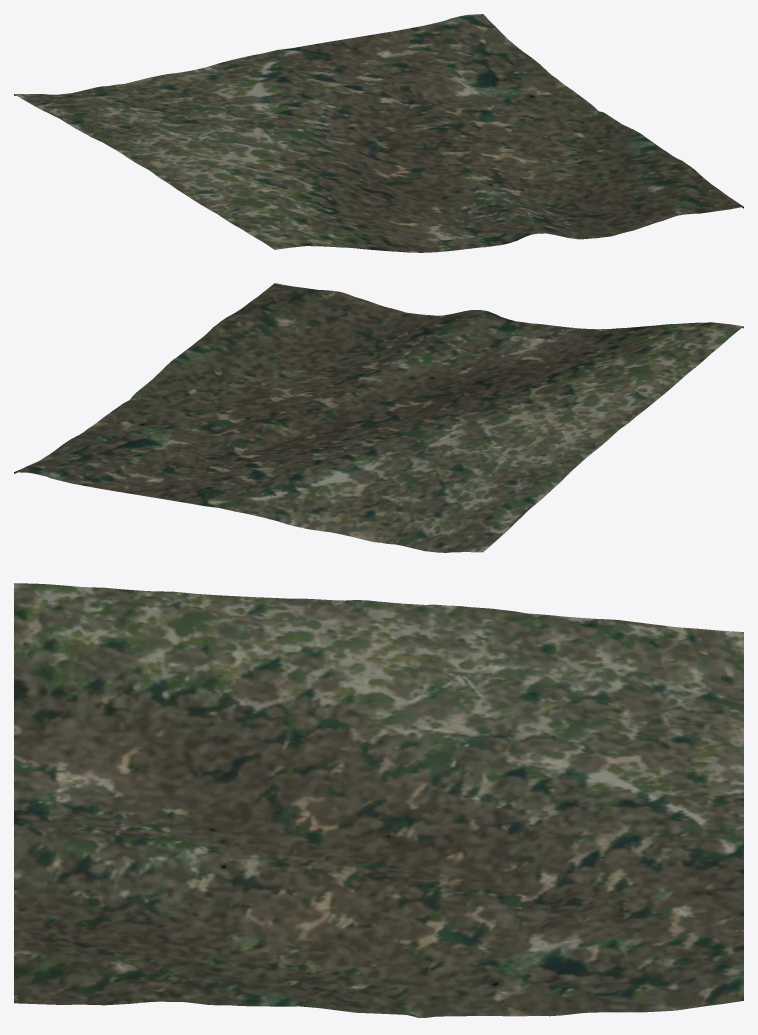
The picture shows the model from 3 angles, top to bottom: view 1: azimuth 30°, elevation 25°; view 2: azimuth 150°, elevation 25°; view 3: azimuth 270°, elevation 25°; orthographic projection. The views are drawn at different scales.
Size of the model in its own units: 250 by 42.64 by 241.
1 material, 1 textured.
